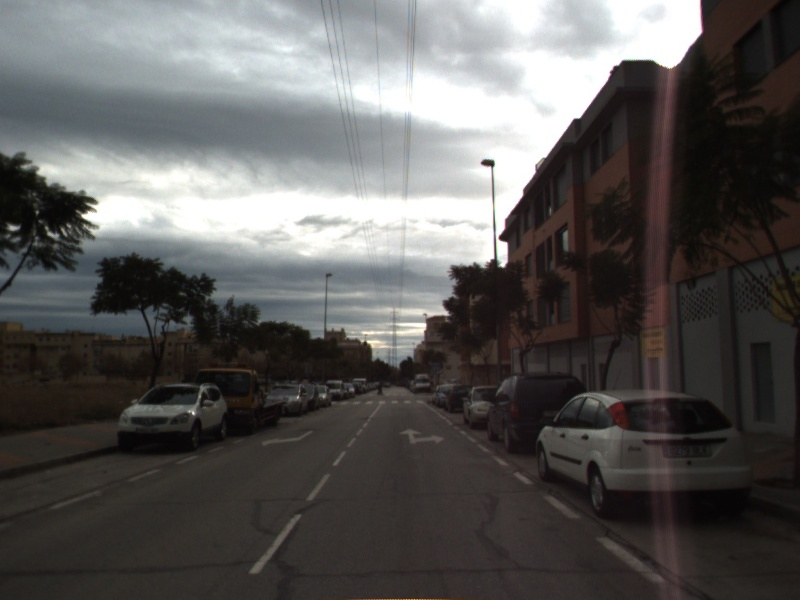STRAIGHT_RIGHT: (397, 426, 447, 446)
